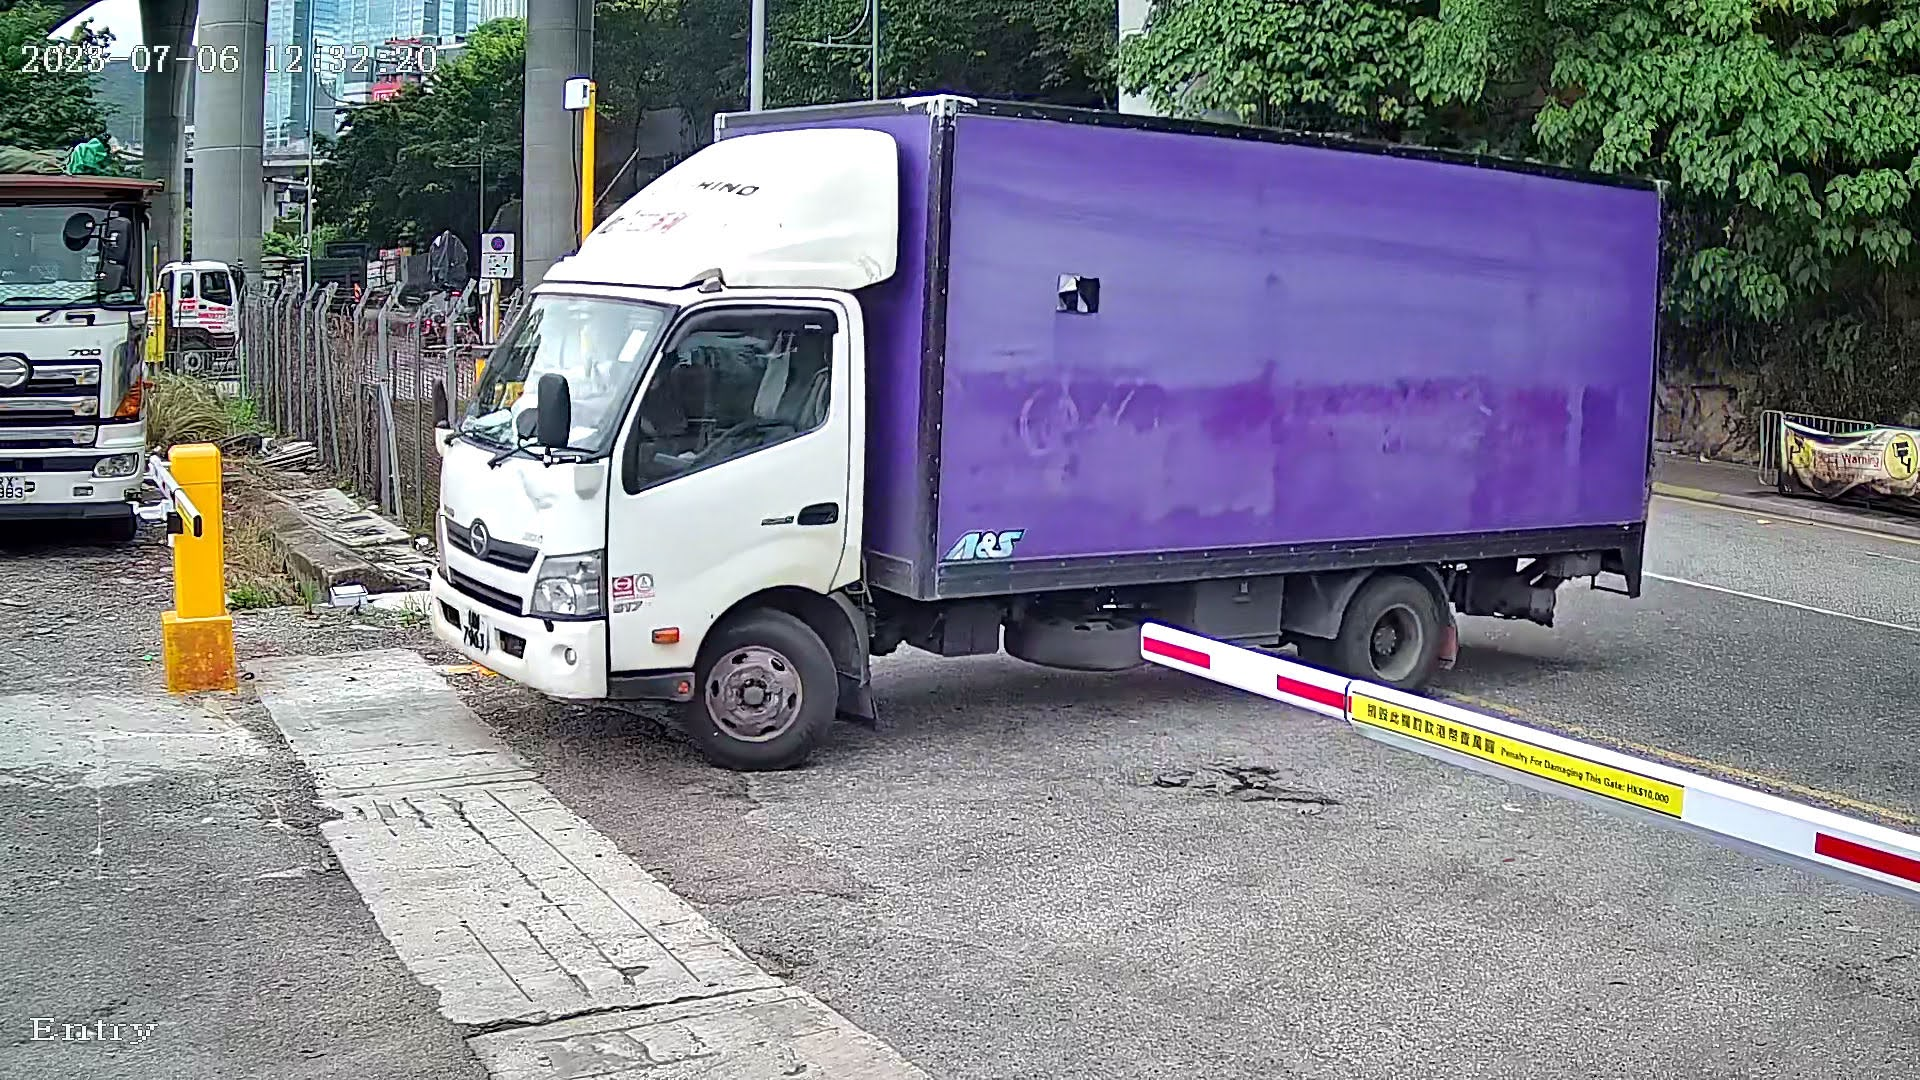truck_small: (378, 66, 1709, 766)
